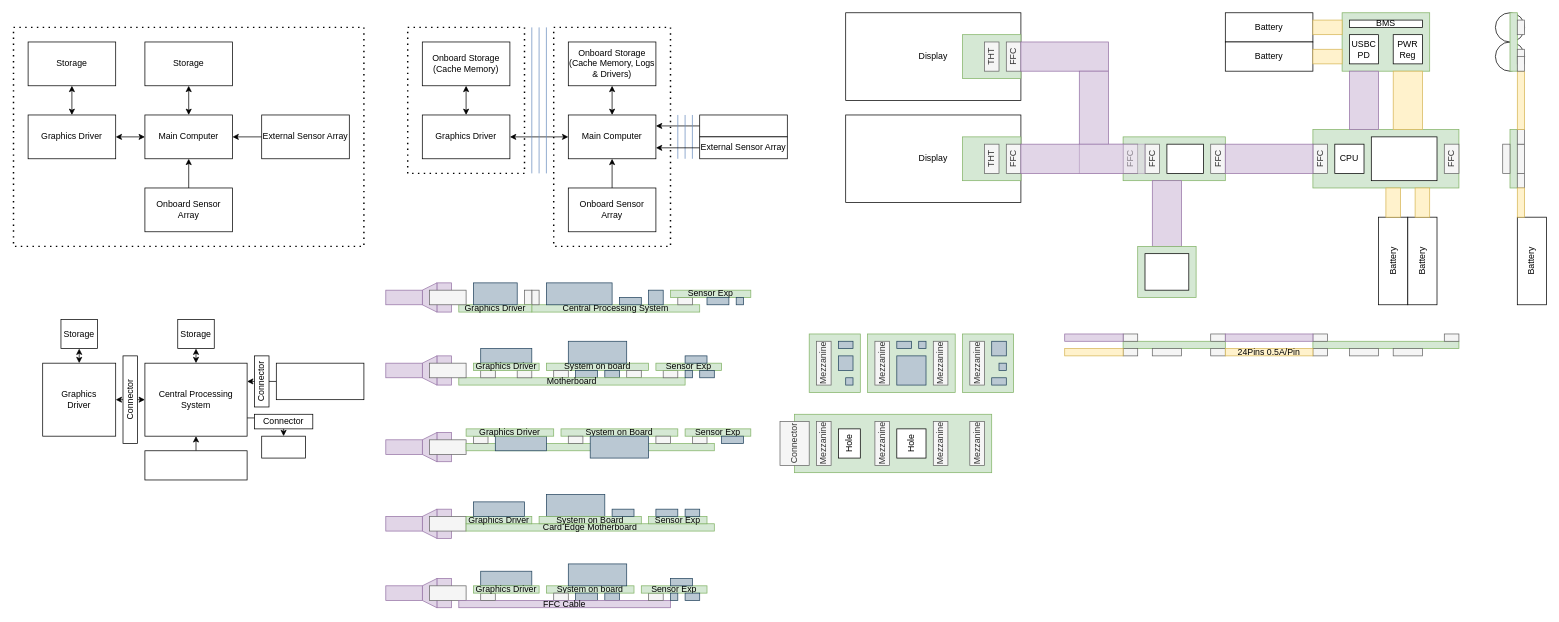
The diagram is 1559 pixels wide and 622 high, and some of its shapes have lost their labels. Each missing label, with the centre of its shape:
Dedicated Sensor Expansion: the point at 743,125
GPU: the point at 1184,158
Sensor Array: the point at 195,465
Sensor Cables: the point at 283,446
Sensor Expansion: the point at 320,381
Sensors: the point at 1404,158
Snoot Sensors: the point at 1166,271
